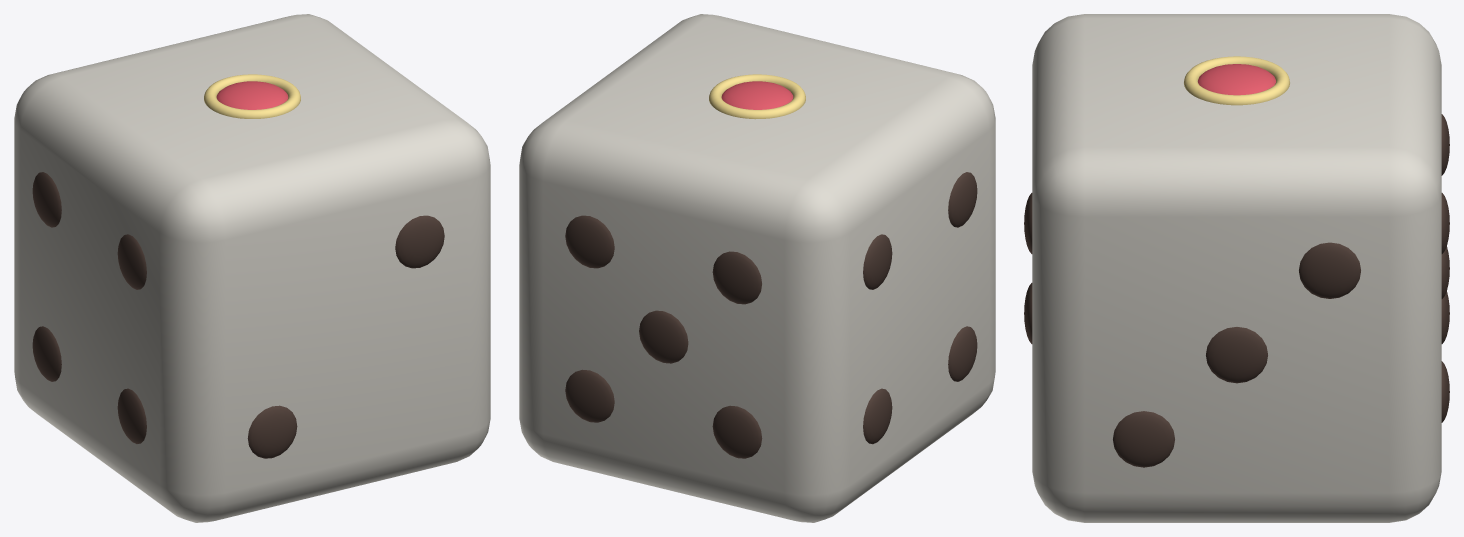
The model's file is dice.glb.
3 views of the same model, side by side, from view 1: azimuth 30°, elevation 25°; view 2: azimuth 150°, elevation 25°; view 3: azimuth 270°, elevation 25° (orthographic). The views are drawn at different scales.
Parts seen in each view (by area): view 1: DiceBody, Pip_2_1, Pip_2_0, Pip1_GoldRing, Pip_1_0, Pip_4_3, Pip_4_2, Pip_4_0, Pip_4_1; view 2: DiceBody, Pip_5_3, Pip_5_0, Pip_5_2, Pip_5_4, Pip_5_1, Pip1_GoldRing, Pip_1_0, Pip_4_1, Pip_4_0, Pip_4_2, Pip_4_3; view 3: DiceBody, Pip_3_0, Pip_3_2, Pip_3_1, Pip1_GoldRing, Pip_1_0.
Boxes of the visible parts, <box> form: DiceBody: <box>14,14,490,522</box>; Pip_2_1: <box>395,215,444,268</box>; Pip_2_0: <box>247,405,297,458</box>; Pip1_GoldRing: <box>204,74,300,118</box>; Pip_1_0: <box>216,81,288,109</box>; Pip_4_3: <box>32,172,61,227</box>; Pip_4_2: <box>32,326,61,381</box>; Pip_4_0: <box>117,388,146,443</box>; Pip_4_1: <box>117,234,146,289</box>; DiceBody: <box>519,14,995,522</box>; Pip_5_3: <box>565,369,614,422</box>; Pip_5_0: <box>712,405,762,458</box>; Pip_5_2: <box>639,310,688,363</box>; Pip_5_4: <box>565,215,614,268</box>; Pip_5_1: <box>712,251,761,304</box>; Pip1_GoldRing: <box>709,74,805,119</box>; Pip_1_0: <box>721,81,793,109</box>; Pip_4_1: <box>948,172,977,227</box>; Pip_4_0: <box>948,326,977,381</box>; Pip_4_2: <box>863,388,892,444</box>; Pip_4_3: <box>863,234,892,289</box>; DiceBody: <box>1032,14,1441,522</box>; Pip_3_0: <box>1113,411,1174,467</box>; Pip_3_2: <box>1299,242,1360,298</box>; Pip_3_1: <box>1206,327,1267,383</box>; Pip1_GoldRing: <box>1184,56,1289,105</box>; Pip_1_0: <box>1198,64,1275,95</box>.
Size of the model in its own units: 0.7691 by 0.7743 by 0.7691.
